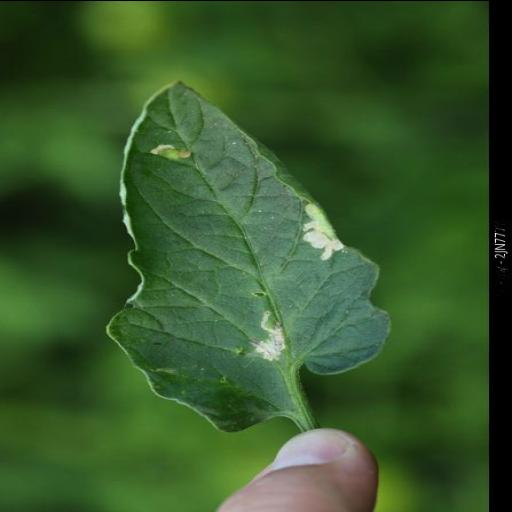Leaf Miner: (102, 76, 394, 436)
